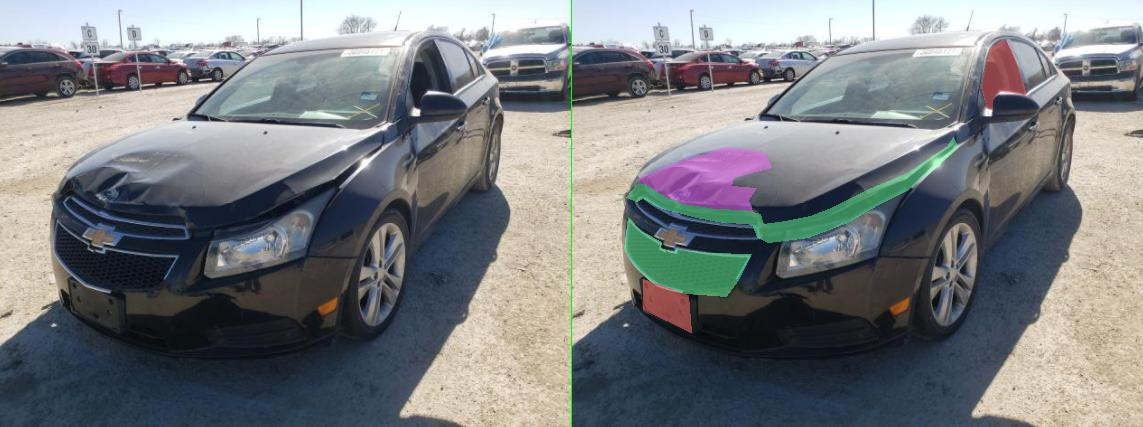Broken part: (108, 137, 771, 242), (104, 217, 358, 296)
Dent: (120, 147, 398, 213)
Missing part: (819, 39, 909, 109), (142, 279, 238, 332)
Scratch: (122, 166, 240, 197), (222, 154, 358, 167), (182, 187, 244, 207)
